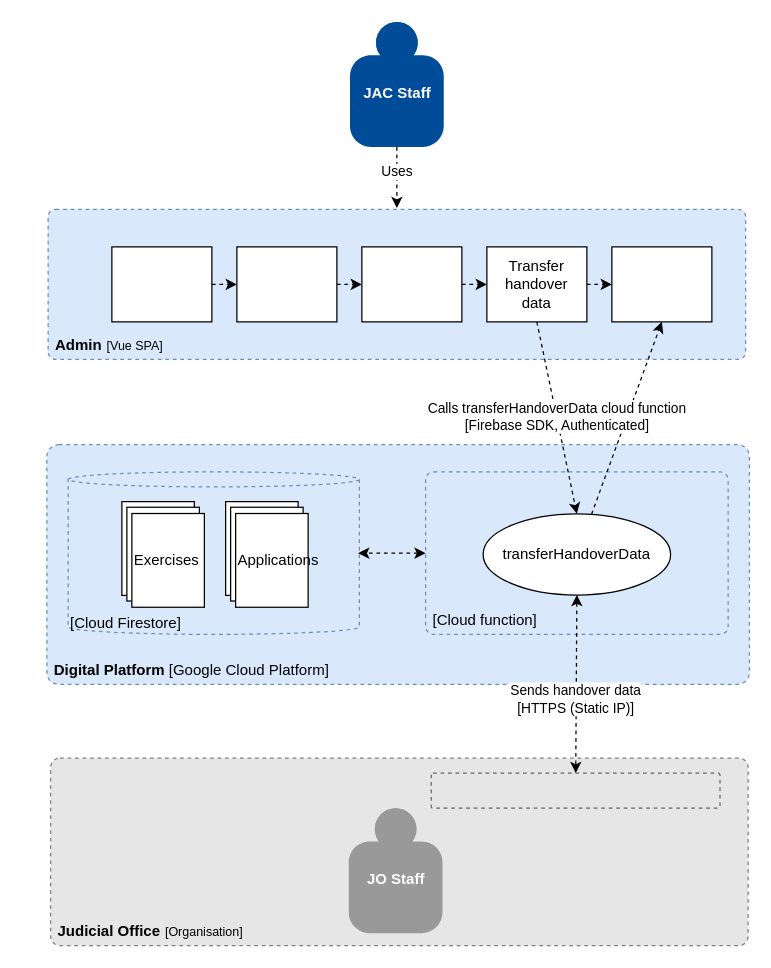
Some shapes in this 771 by 968 pixel diagram are drawn without their labels. The shapes that lost their labels are listed below. From the top down, each one's centre as x and y in pixels, then its label:
the point at 161,284: Exercises list
the point at 286,284: Exercise
the point at 411,284: Handover list
the point at 661,284: Transfer result
the point at 575,790: eHR ATS [API]
